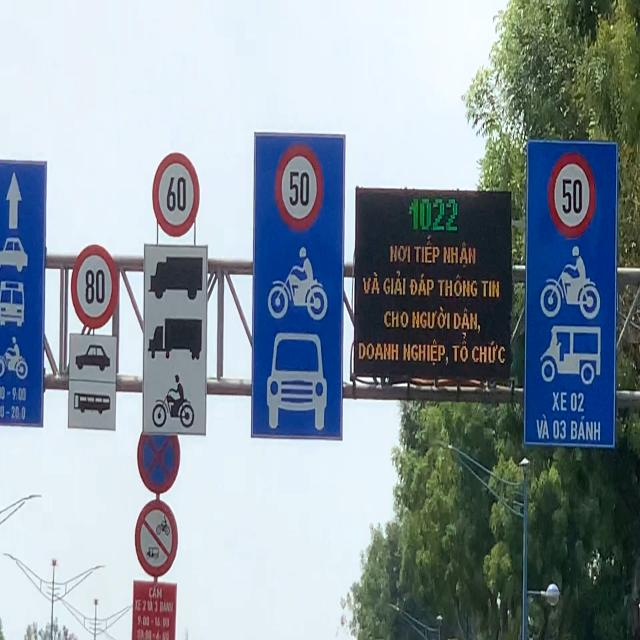P.127: (548, 153, 596, 239), (275, 144, 323, 230), (152, 152, 200, 238), (71, 243, 118, 329)
P.130: (137, 416, 180, 494)
